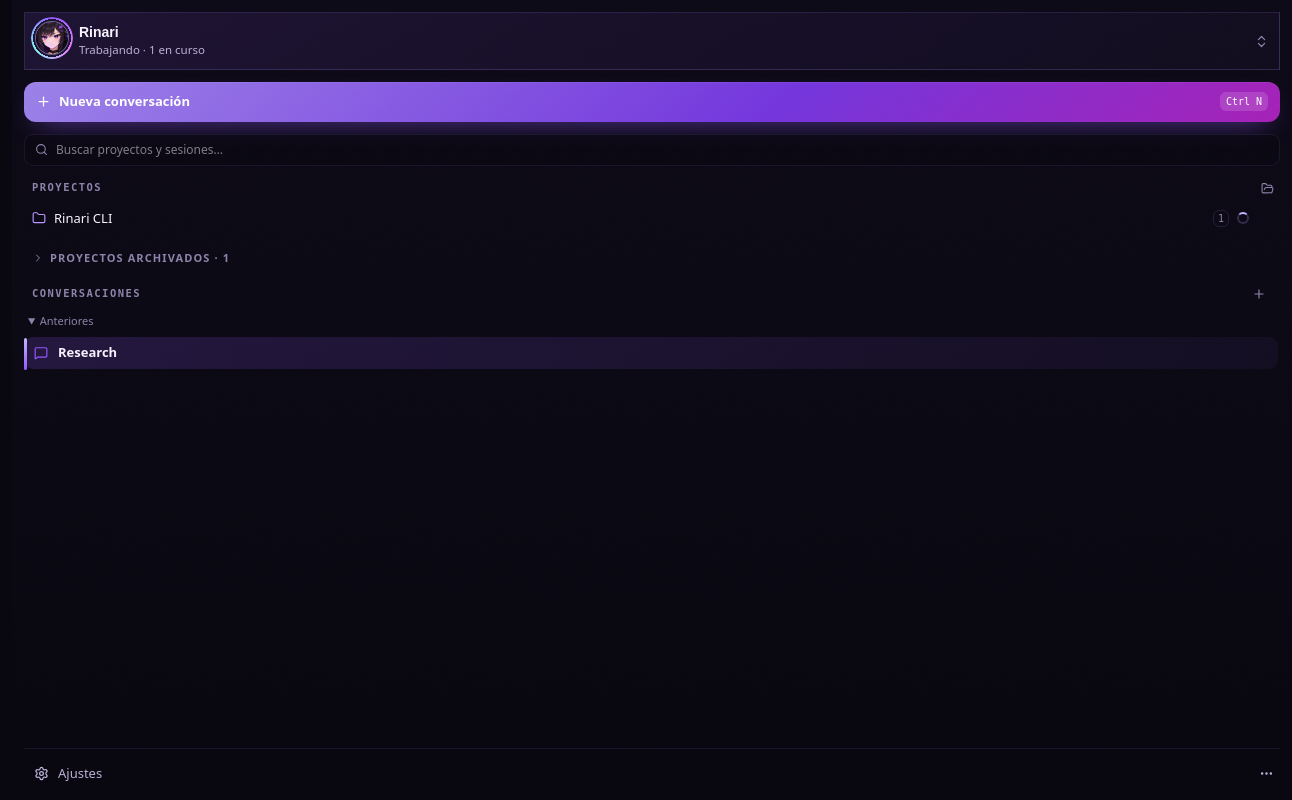
shows work in an unselected session and its collapsed project
The width and height of the screenshot is (1292, 800).
# The project starts collapsed (the active chat is not in it): open it first.
Click the button titled "/repo/project". click: coordinates (83, 218)
box: [24,202,1257,234]
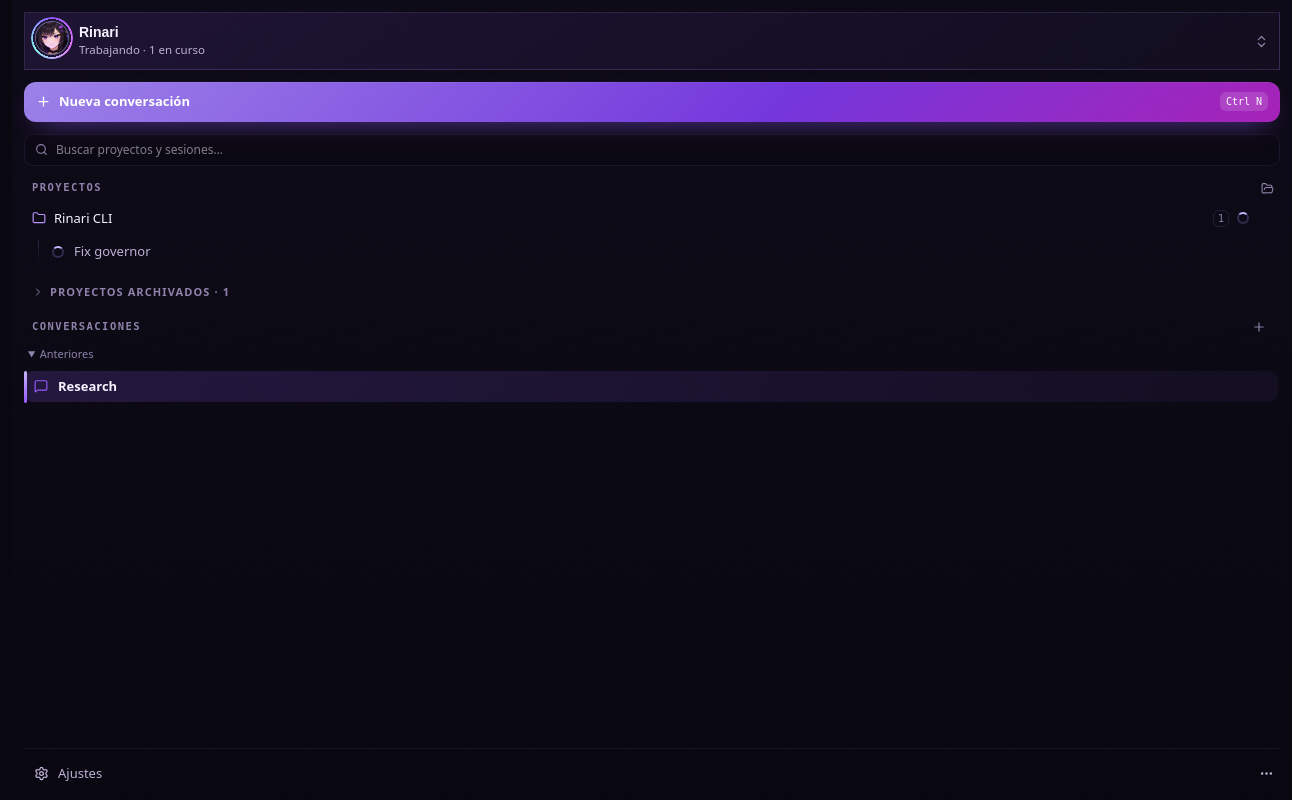
Check: the message named "Sesión en curso" is shown, box [52,246,64,258]
Click the button titled "/repo/project". click: coordinates (83, 218)
box: [24,202,1257,234]
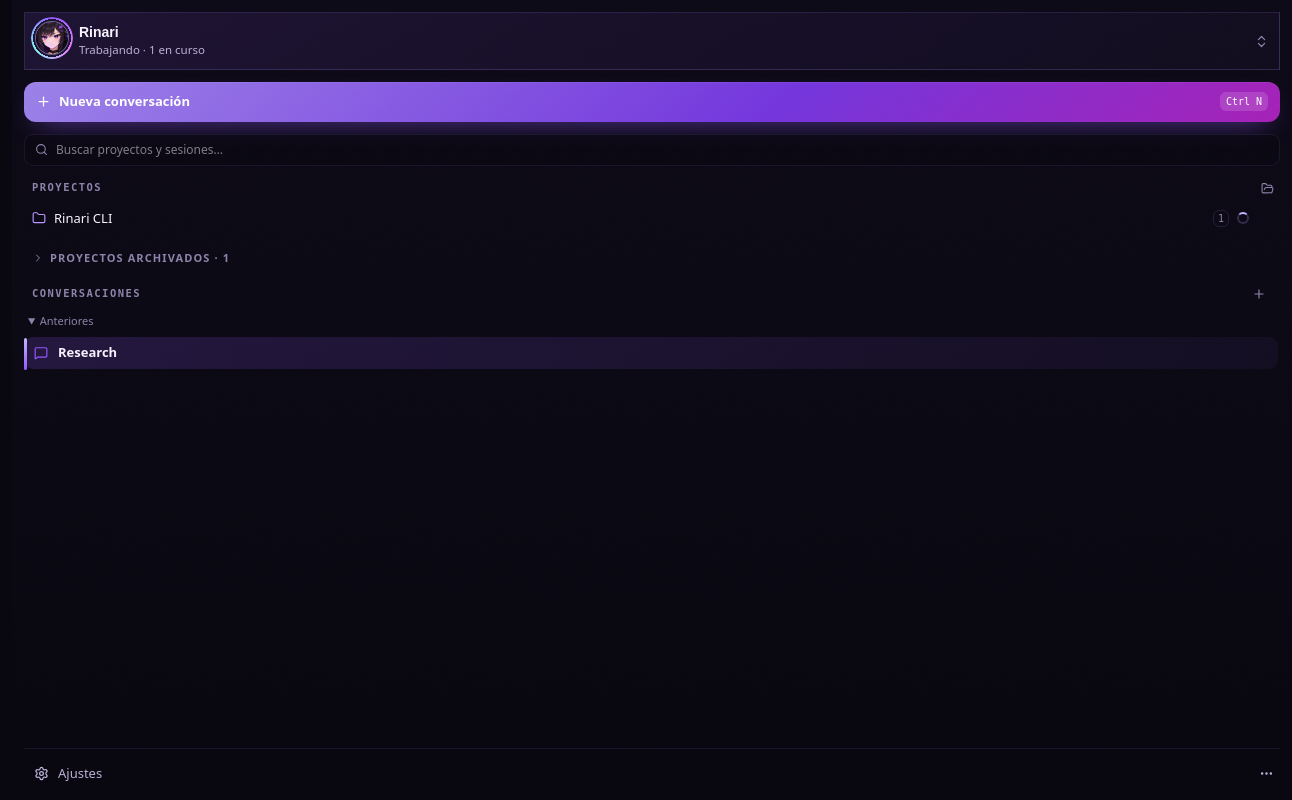
Check: the message named "Proyecto con sesiones en curso" is shown, box [1237,212,1249,224]
Check: the button "Fix governor" is gone
